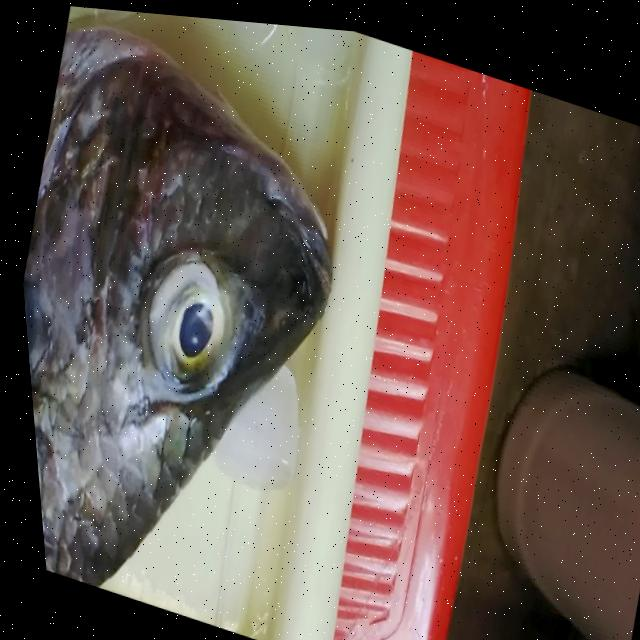Fresh: (103, 221, 264, 454)
